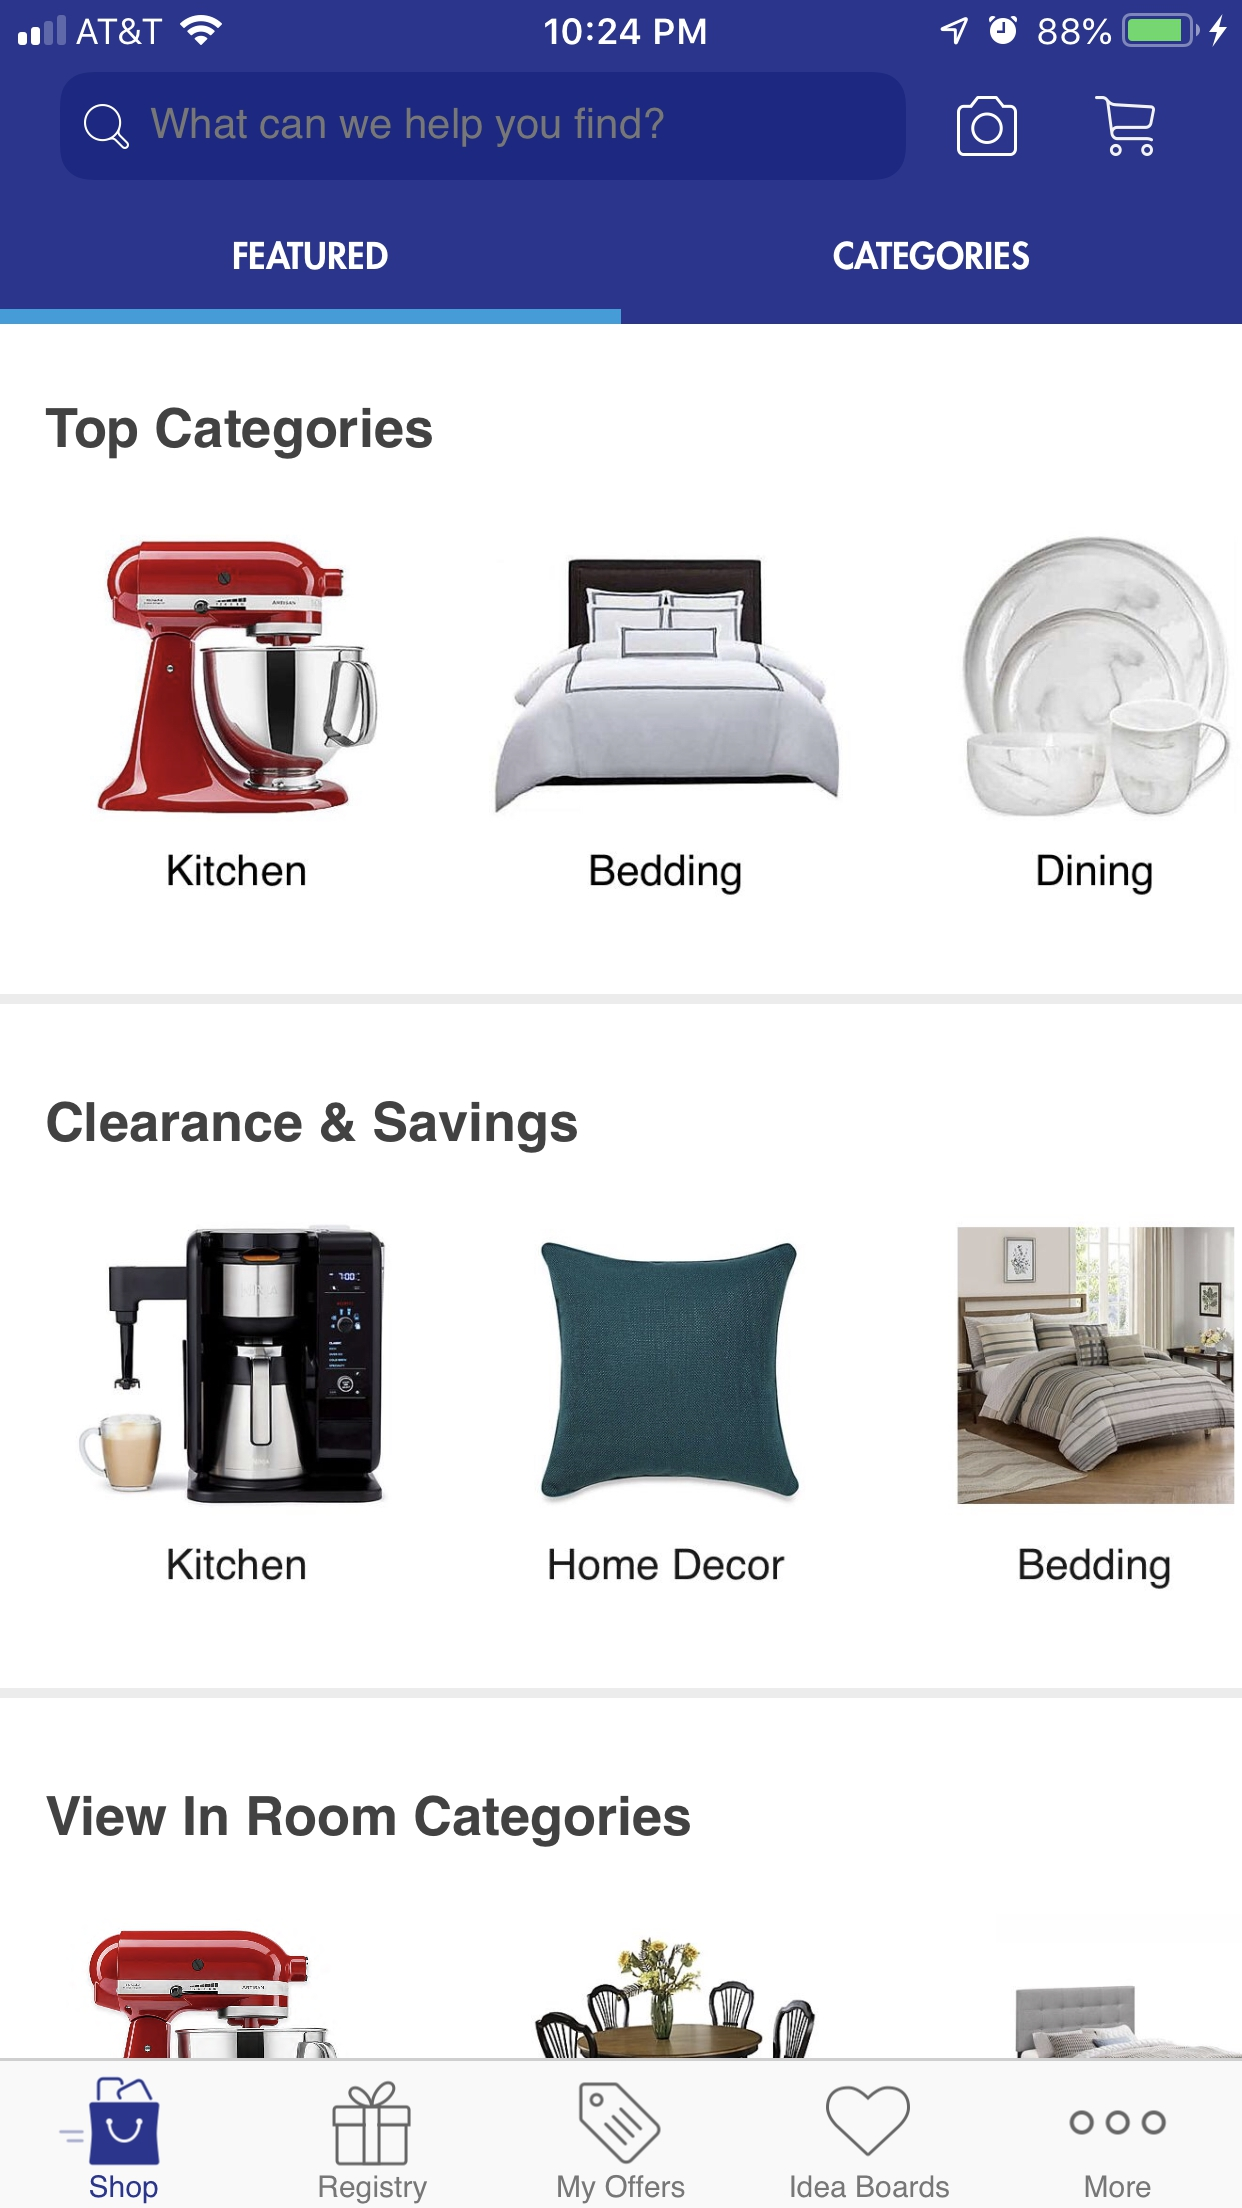EditText: (61, 71, 907, 180)
Icon: (61, 2075, 162, 2166), (578, 2081, 663, 2166), (332, 2081, 412, 2167), (826, 2085, 911, 2156), (1093, 96, 1156, 158), (955, 96, 1018, 158), (1068, 2109, 1168, 2137), (83, 105, 130, 152)
Image: (494, 560, 840, 814), (80, 1224, 388, 1504), (97, 540, 381, 814), (958, 1227, 1234, 1504), (963, 537, 1231, 817), (540, 1242, 798, 1498), (534, 1937, 816, 2058), (89, 1929, 338, 2058), (1015, 1985, 1242, 2058)
Text: (45, 1796, 692, 1849), (47, 1099, 578, 1154), (152, 108, 664, 149), (45, 406, 434, 459), (549, 1547, 786, 1582), (590, 854, 742, 898), (1019, 1547, 1171, 1589), (833, 241, 1030, 271), (1036, 852, 1153, 896), (168, 1547, 306, 1582), (168, 852, 306, 887), (234, 241, 390, 271), (790, 2175, 949, 2199), (558, 2175, 685, 2203), (318, 2175, 428, 2205), (89, 2175, 161, 2203), (1084, 2175, 1153, 2199)
UpperTaskBar: (2, 2, 1242, 50)
